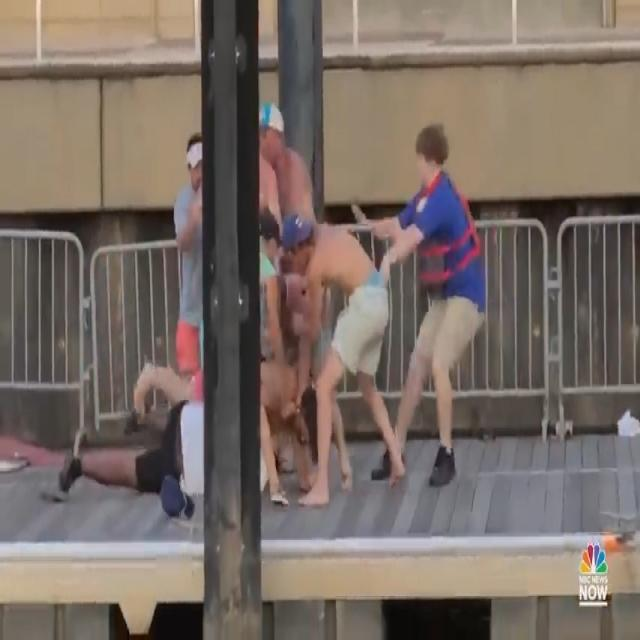fight: (134, 106, 408, 508)
